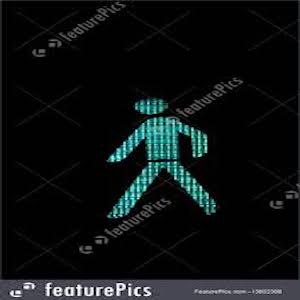green: (91, 91, 226, 220)
